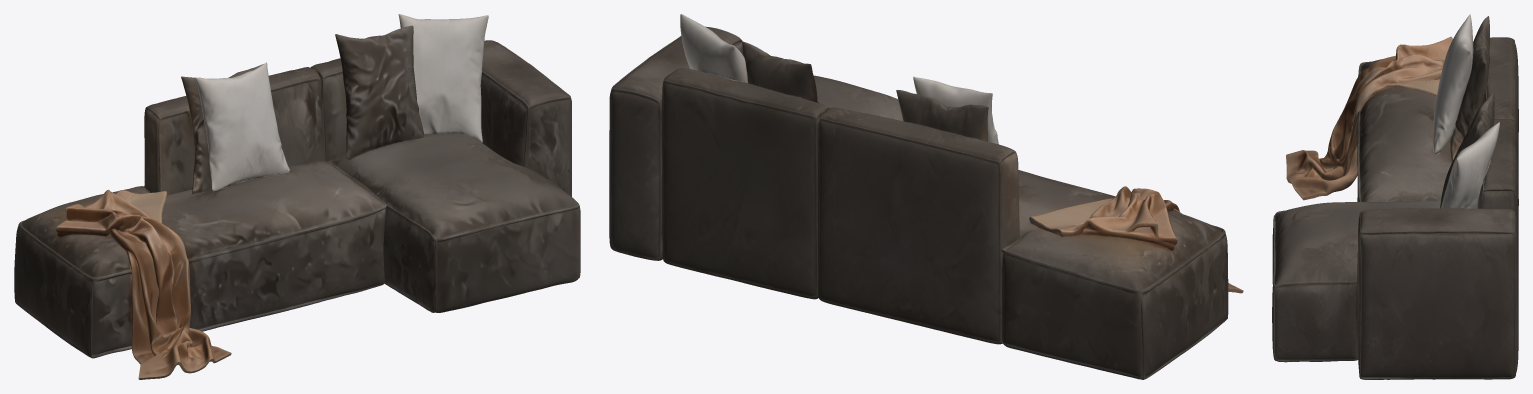
Rendered from sofa-scaled.glb.
The picture shows the model from 3 angles, left to right: view 1: azimuth 30°, elevation 25°; view 2: azimuth 150°, elevation 25°; view 3: azimuth 270°, elevation 25°; orthographic projection. The views are drawn at different scales.
Parts seen in each view (by area): view 1: model; view 2: model; view 3: model.
Boxes of the visible parts, x1=… form: model: x1=14, y1=14, x2=580, y2=379; model: x1=609, y1=14, x2=1243, y2=379; model: x1=1272, y1=14, x2=1518, y2=379.
Bounding box in the file's own units: 2.1 × 0.85 × 0.9.
1 material, 1 textured.
